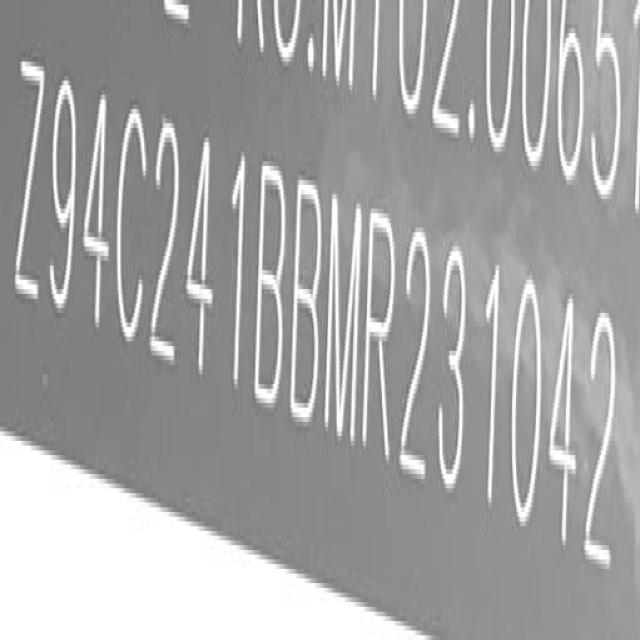0: (511, 273, 546, 536)
1: (482, 259, 503, 514), (226, 148, 248, 391)
2: (586, 308, 621, 570), (400, 233, 433, 484), (151, 117, 180, 368)
3: (438, 242, 468, 494)
4: (547, 291, 580, 558), (84, 86, 115, 334), (188, 135, 218, 380)
9: (51, 72, 80, 319)
B: (256, 157, 290, 406), (294, 175, 325, 427)
C: (116, 101, 148, 350)
N: (326, 190, 364, 441)
R: (365, 206, 400, 462)
Z: (16, 58, 46, 308)
